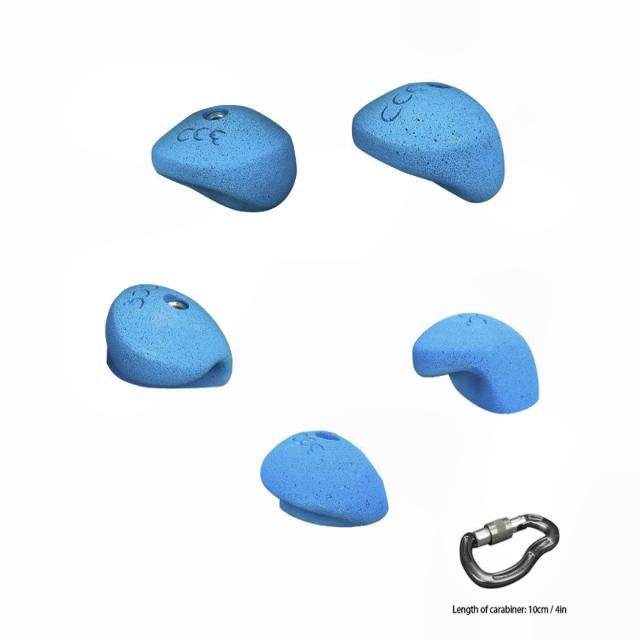Hold: (348, 78, 514, 206), (149, 104, 295, 214), (406, 311, 544, 419), (104, 281, 234, 390), (259, 428, 392, 530)
